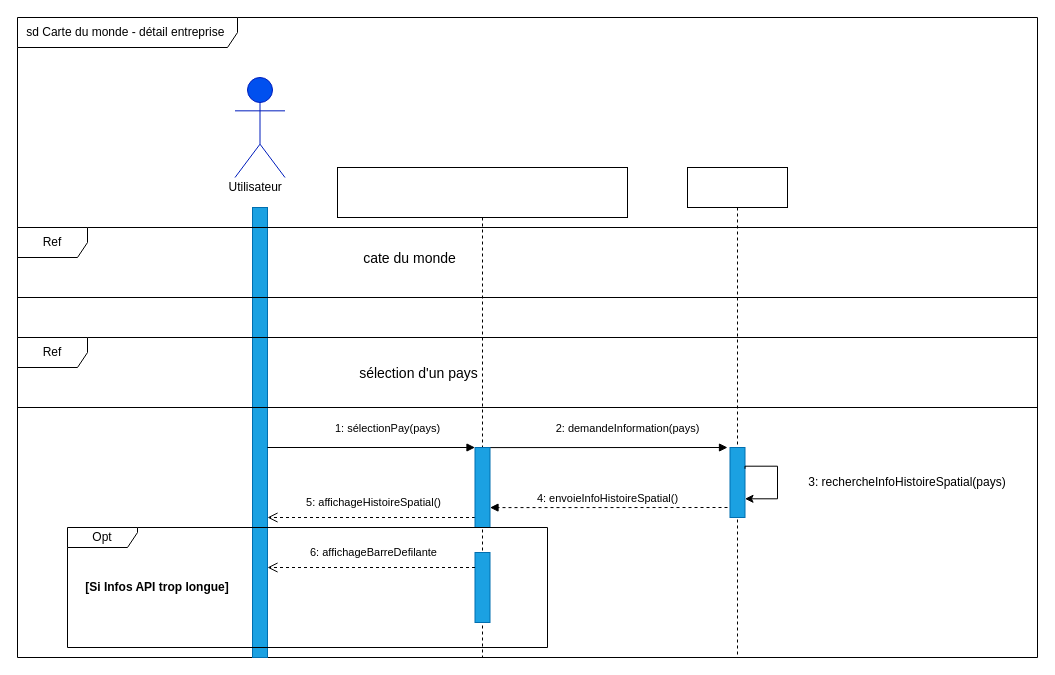
This 1055x675 diagram has some shape labels left out. The box of each missing label's shape, as (x1, y1, x2, y2) in pixels:
:API: (686, 166, 788, 658)
:Système: (336, 166, 628, 658)
